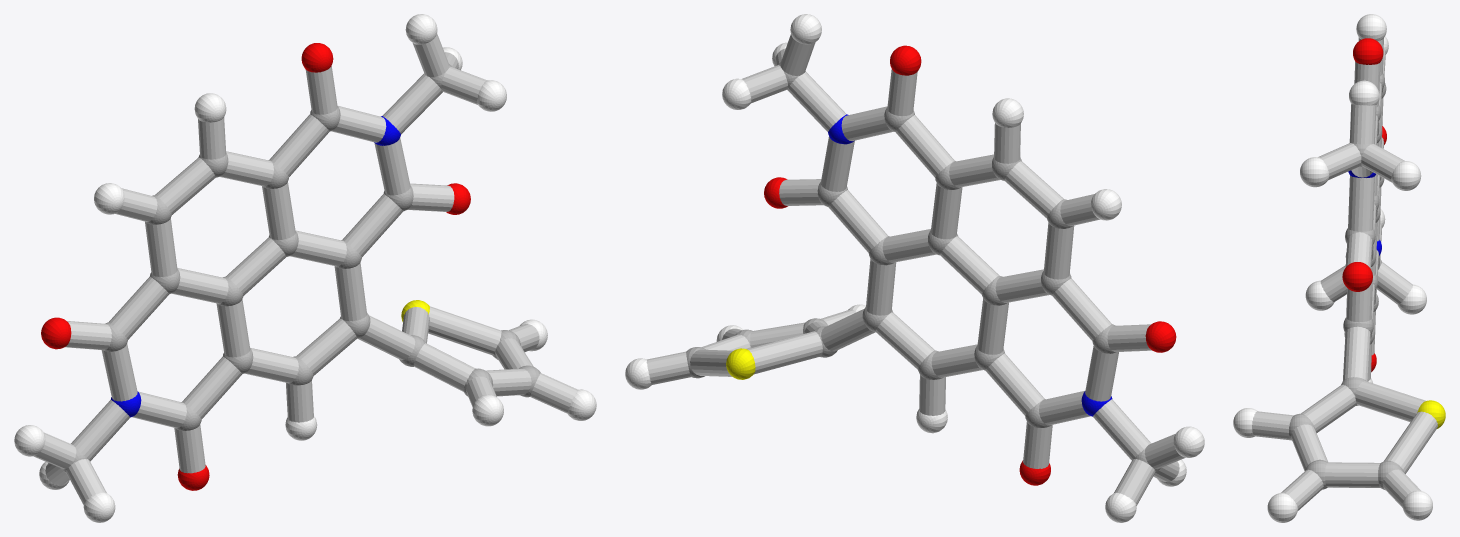
The model's file is Dimethyl_Naphthalene_Dicarboximide_Phi_15_Theta_100_Thiophene.glb.
3 renders of one model, left to right at view 1: azimuth 30°, elevation 25°; view 2: azimuth 150°, elevation 25°; view 3: azimuth 270°, elevation 25°, orthographic. The views are drawn at different scales.
Parts seen in each view (by area): view 1: grp14119, grp7241, grp1, grp12309, grp11585; view 2: grp14119, grp7241, grp1, grp12309, grp13757, grp11585; view 3: grp14119, grp7241, grp1, grp12309, grp13757.
Part boxes in pixels (x1=…): grp14119: x1=34, y1=33, x2=577, y2=505; grp7241: x1=14, y1=14, x2=596, y2=522; grp1: x1=61, y1=64, x2=540, y2=473; grp12309: x1=41, y1=43, x2=470, y2=490; grp11585: x1=111, y1=116, x2=400, y2=417; grp14119: x1=646, y1=34, x2=1185, y2=505; grp7241: x1=625, y1=14, x2=1204, y2=522; grp1: x1=686, y1=62, x2=1160, y2=472; grp12309: x1=764, y1=45, x2=1176, y2=485; grp13757: x1=726, y1=348, x2=755, y2=379; grp11585: x1=828, y1=114, x2=1112, y2=416; grp14119: x1=1252, y1=37, x2=1437, y2=510; grp7241: x1=1233, y1=14, x2=1432, y2=522; grp1: x1=1289, y1=73, x2=1403, y2=490; grp12309: x1=1342, y1=38, x2=1386, y2=371; grp13757: x1=1417, y1=400, x2=1445, y2=428.
Size of the model in its own units: 12.07 by 8.67 by 4.18.
